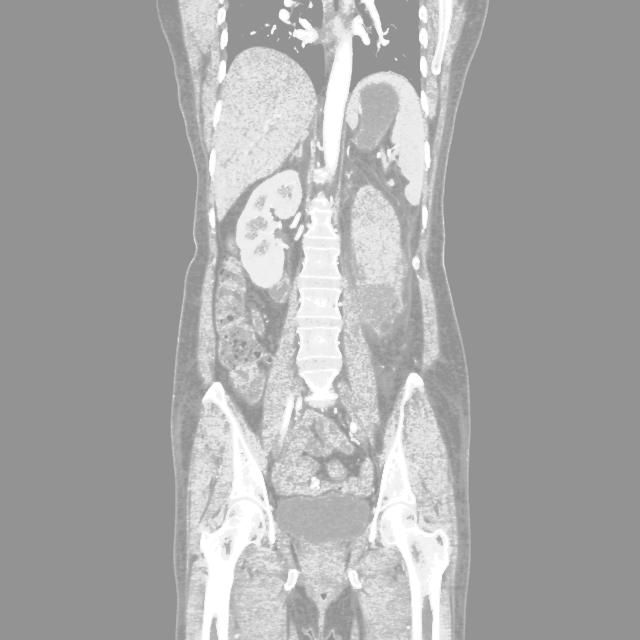TUMOR: (171, 186, 537, 393)
